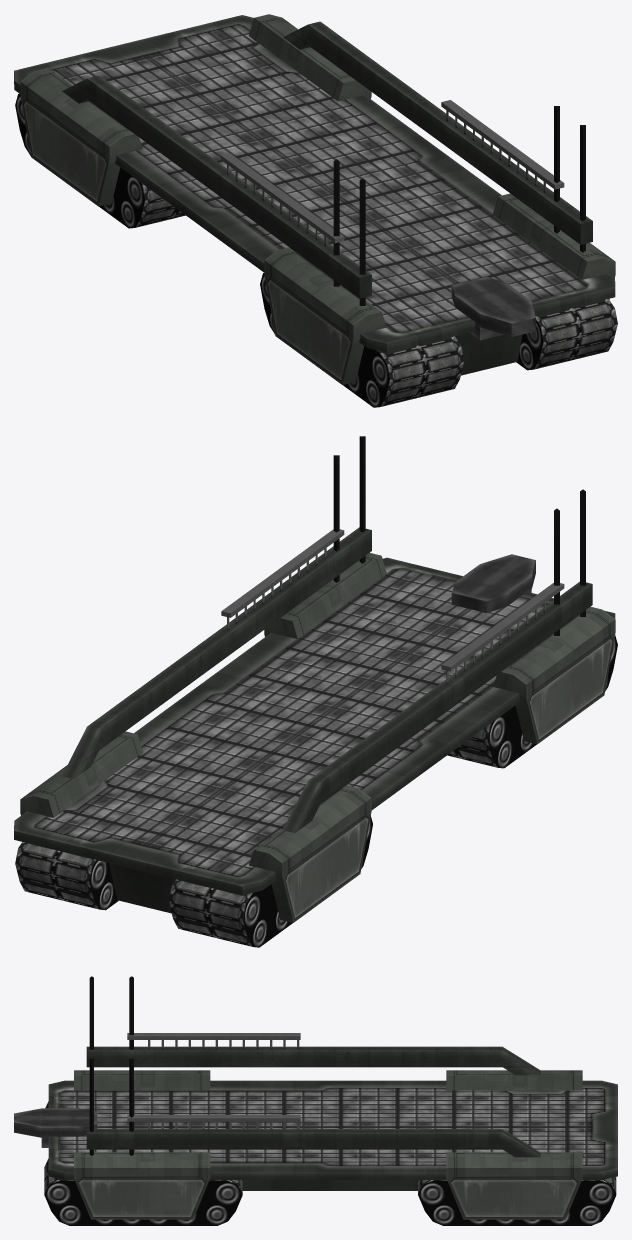
The model's file is doodad_transport_crawlerback.fbx.
3 views of the same model, one above another, from view 1: azimuth 30°, elevation 25°; view 2: azimuth 150°, elevation 25°; view 3: azimuth 270°, elevation 25° (orthographic). The views are drawn at different scales.
Parts seen in each view (by area): view 1: carrier; view 2: carrier; view 3: carrier.
Part boxes in pixels (x1,y1,x2,y2): carrier: (14,14,617,407); carrier: (14,436,617,947); carrier: (14,976,617,1225).
Size of the model in its own units: 3.41 by 2.69 by 8.93.
2 materials, 2 textured.
